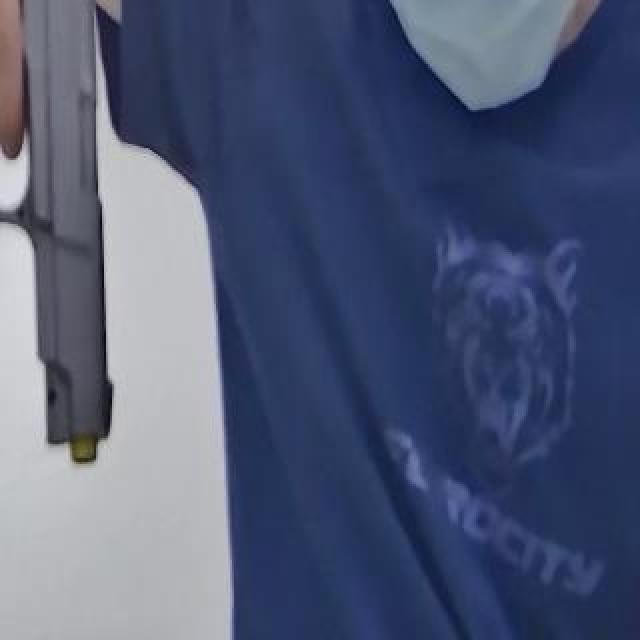Guns: (0, 0, 162, 530)
